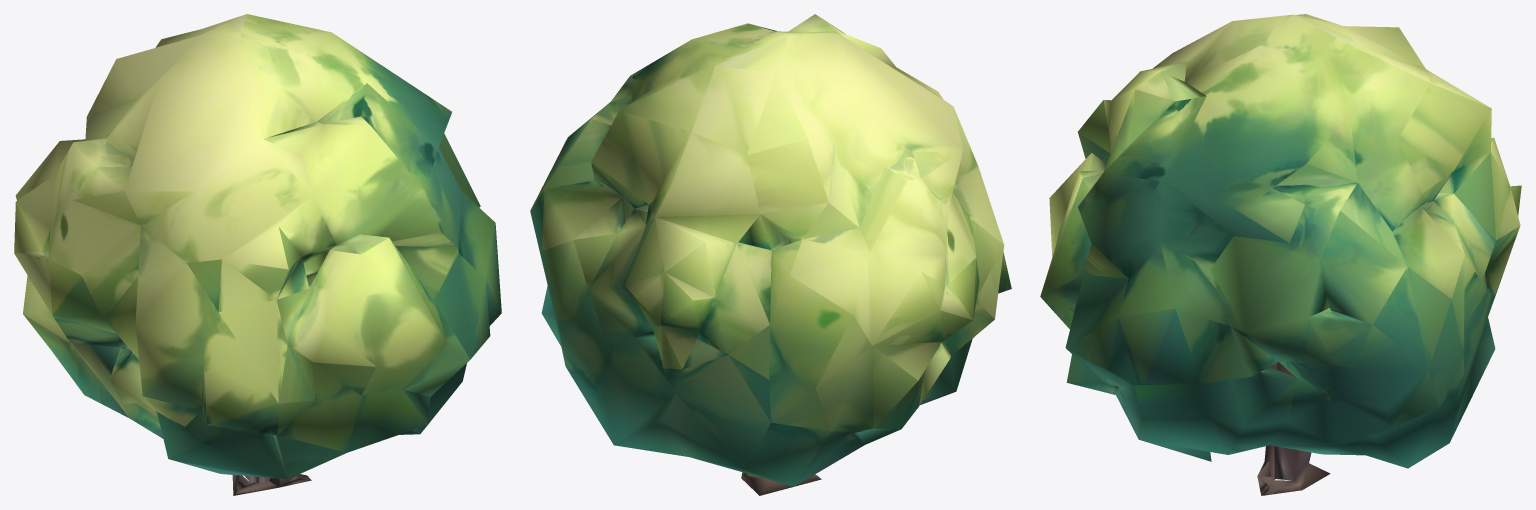
File: BushSingle.fbx
3 views of the same model, side by side, from view 1: azimuth 30°, elevation 25°; view 2: azimuth 150°, elevation 25°; view 3: azimuth 270°, elevation 25° (orthographic).
Visible parts, largest first — view 1: Tree_of_Whimsy_1001172250; view 2: Tree_of_Whimsy_1001172250; view 3: Tree_of_Whimsy_1001172250.
Part boxes in pixels (x1,y1,x2,y2): Tree_of_Whimsy_1001172250: [14, 14, 501, 495]; Tree_of_Whimsy_1001172250: [530, 14, 1011, 495]; Tree_of_Whimsy_1001172250: [1040, 14, 1521, 495].
Bounding box in the file's own units: 190 × 196 × 188.
1 material, 1 textured.
